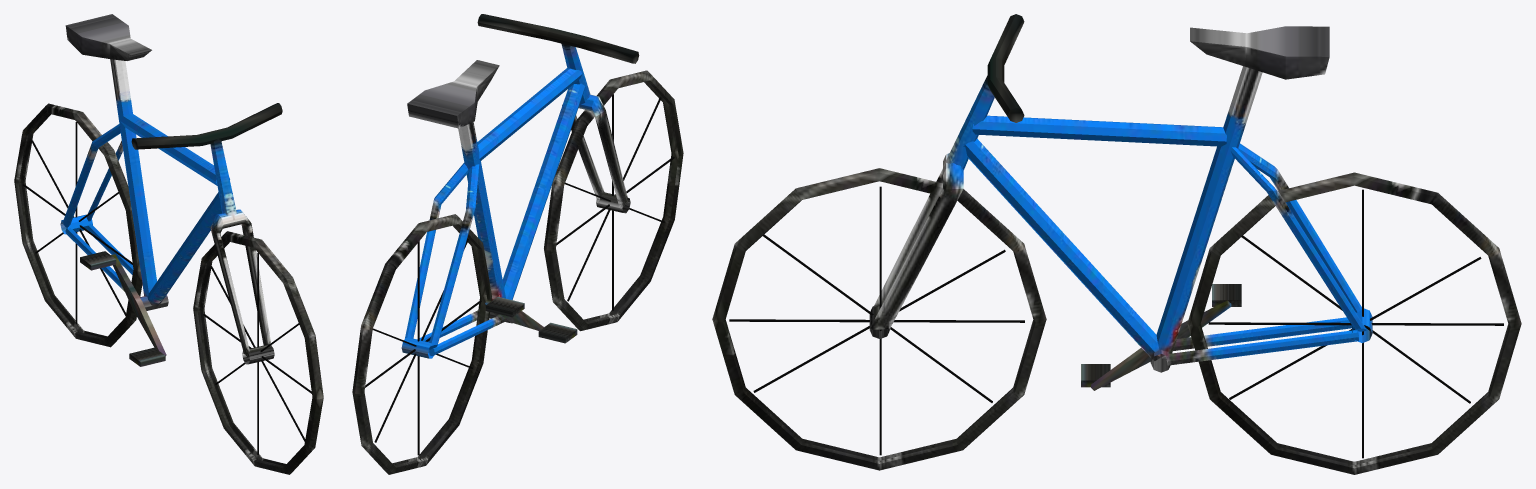
The model's file is bike_blue.obj.
The picture shows the model from 3 angles, left to right: view 1: azimuth 30°, elevation 25°; view 2: azimuth 150°, elevation 25°; view 3: azimuth 270°, elevation 25°; orthographic projection. The views are drawn at different scales.
Bounding box in the file's own units: 2.6 × 5.68 × 9.44.
Materials: 2 (2 with a texture image).
